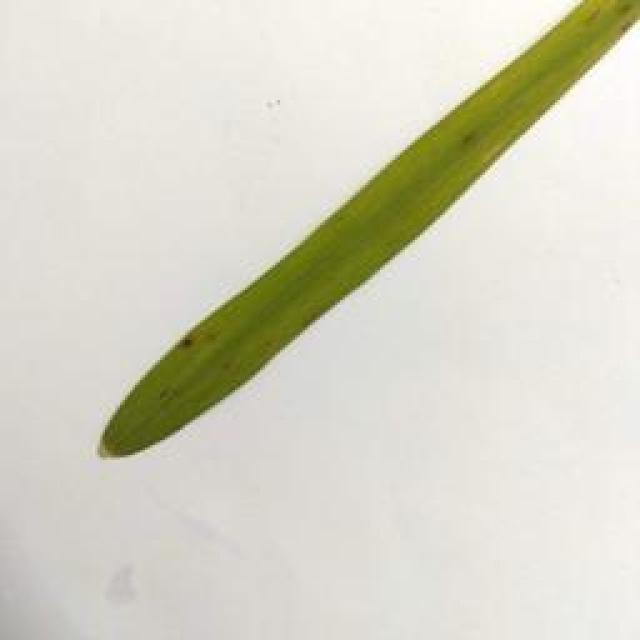Brown_Spot: (172, 322, 210, 360), (576, 4, 613, 32), (622, 0, 640, 38), (460, 129, 486, 149)
